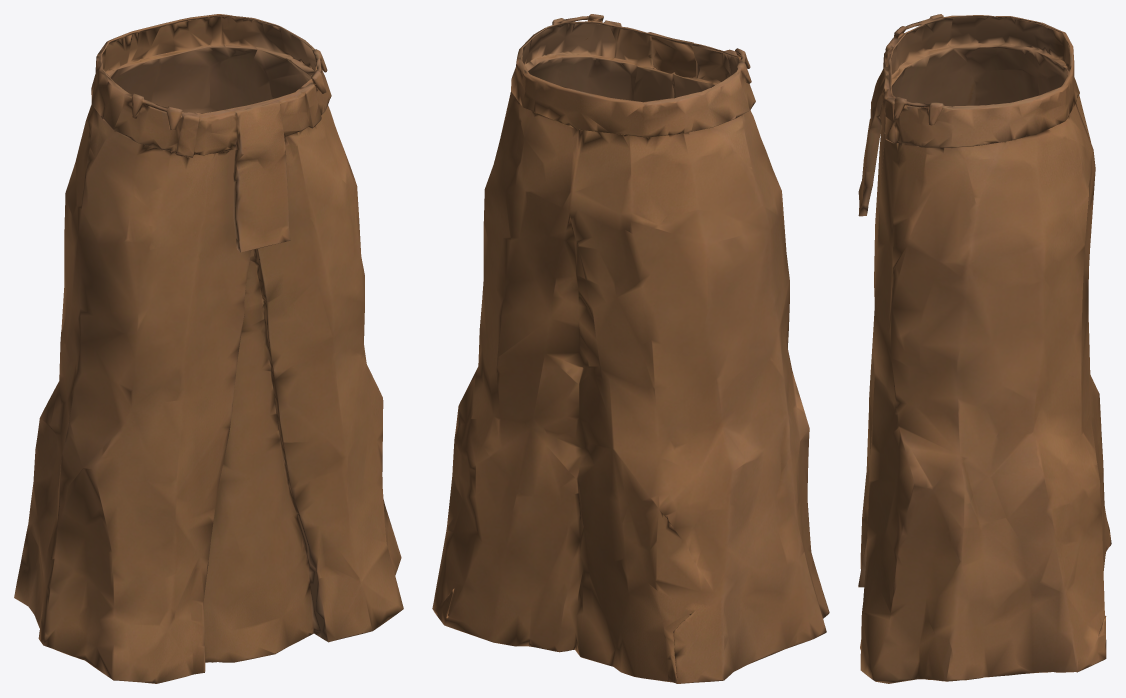
Rendered from long-skirt.glb.
The picture shows the model from 3 angles, left to right: view 1: azimuth 30°, elevation 25°; view 2: azimuth 150°, elevation 25°; view 3: azimuth 270°, elevation 25°; orthographic projection.
Parts seen in each view (by area): view 1: Module_long-skirt_left_0; view 2: Module_long-skirt_left_0; view 3: Module_long-skirt_left_0.
Boxes of the visible parts, left/top/right/bottom form: Module_long-skirt_left_0: left=14, top=14, right=403, bottom=683; Module_long-skirt_left_0: left=432, top=14, right=829, bottom=683; Module_long-skirt_left_0: left=858, top=14, right=1111, bottom=683.
Size of the model in its own units: 0.554 by 0.8314 by 0.3382.
1 material, 1 textured.
